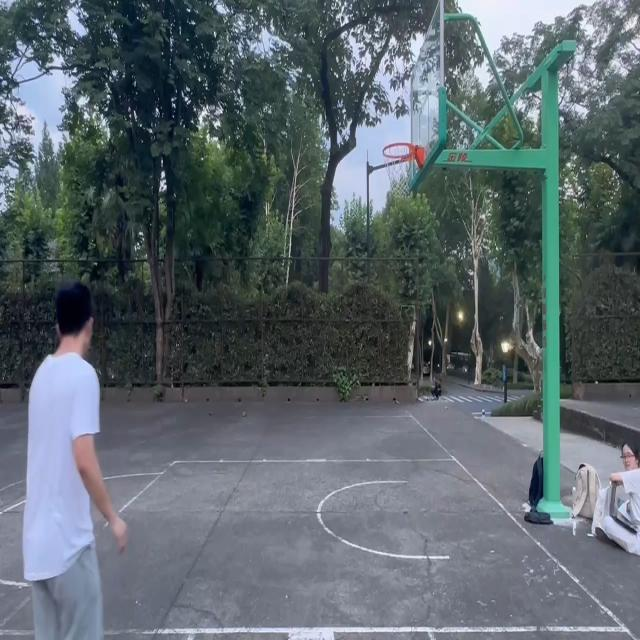basketball: (382, 143, 426, 198)
